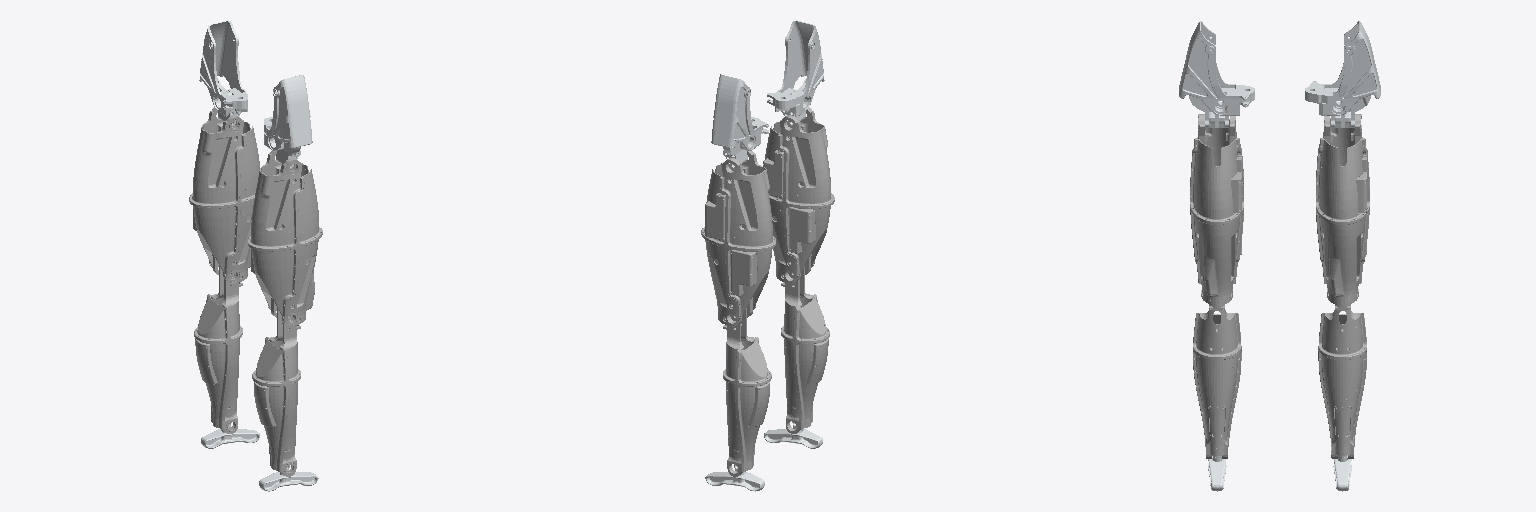
URDF robot description (Draco):
<robot name="Draco">
 <link name="torso">
    <inertial>
        <origin xyz="-0.0133907728940907 0.000753510365864796 0.10783" rpy="0 0 0" />
        <!--<origin xyz="-0.0133907728940907 0.000753510365864796 0." rpy="0 0 0" />-->
      <mass value="9.67" />
      <inertia ixx="0.0585154591166426" ixy="-9.46724624145663E-05" ixz="-0.00614431919973963" iyy="0.0651574953784801" iyz="-0.000230611945696951" izz="0.0178352105631859" />
    </inertial>
    <visual>
      <origin xyz="-0.05 0 -0.0549" rpy="1.5708 0 1.5708" />
      <geometry>
        <mesh filename="meshes/torso_draco.dae" />
      </geometry>
      <material name="">
        <color rgba="0.752941176470588 0.752941176470588 0.752941176470588 1" />
      </material>
    </visual>
  </link>
  <link name="lHipYaw">
    <inertial>
      <origin xyz="0 0.07 0.05" rpy="0 0 0" />
      <mass value="2.962" />
      <inertia ixx="0.0001" ixy="0.0001" ixz="0.0001" iyy="0.0001" iyz="0.0001" izz="0.0001" />
    </inertial>
    <visual>
      <origin xyz="0 0 0" rpy="0 0 0" />
      <geometry>
        <mesh filename="meshes/lHipYaw.dae" />
      </geometry>
      <material name="">
        <color rgba="0.898039215686275 0.917647058823529 0.929411764705882 1" />
      </material>
    </visual>
  </link>
  <joint name="lHipYaw" type="revolute">
    <!--<origin xyz="-0.0222 0.0870 -0.2951" rpy="0 0 0" />-->
    <origin xyz="-0.0222 0.0870 0.0" rpy="0 0 0" />
    <dynamics damping="0.5" />
    <parent link="torso" />
    <child link="lHipYaw" />
    <axis xyz="0 0 1" />
    <limit effort="40" lower="-1.04" upper="1.04" velocity="25.0"/>
  </joint>
  <transmission name="lHipYaw" type="transmission_interface/SimpleTransmission">
    <actuator name="lHipYaw"/>
    <joint name="lHipYaw"/>
    <mechanicalReduction>1</mechanicalReduction>
  </transmission>

  <link name="lHipRoll">
    <inertial>
      <origin xyz="0 0.022 -0.02" rpy="0 0 0" />
      <mass value="0.408" />
      <inertia ixx="0.0001" ixy="0.0001" ixz="0.0001" iyy="0.0001" iyz="0.0001" izz="0.001" />
    </inertial>
    <visual>
      <origin xyz="0 0 0" rpy="0 0 0" />
      <geometry>
        <mesh filename="meshes/lHipRoll.dae" />
      </geometry>
      <material name="">
        <color rgba="0.898039215686275 0.917647058823529 0.929411764705882 1" />
      </material>
    </visual>
  </link>
  <joint name="lHipRoll" type="revolute">
    <origin xyz="0 0.07 -0.02" rpy="0 0 0" />
    <dynamics damping="0.5" />
    <parent link="lHipYaw" />
    <child link="lHipRoll" />
    <axis xyz="1 0 0" />
    <limit effort="40" lower="-0.52" upper="1.04" velocity="25.0"/>
  </joint>
  <transmission name="lHipRoll" type="transmission_interface/SimpleTransmission">
    <actuator name="lHipRoll"/>
    <joint name="lHipRoll"/>
    <mechanicalReduction>1</mechanicalReduction>
  </transmission>

  <link name="lHipPitch">
    <inertial>
      <origin xyz="0.0009 0.0066 -0.24" rpy="0 0 0" />
      <mass value="6.0" />
      <inertia ixx="0.0555" ixy="0.0001" ixz="0.0039" iyy="0.0595" iyz="0.0001" izz="0.0059" />
    </inertial>
    <visual>
      <origin xyz="0 0 0" rpy="0 0 0" />
      <geometry>
        <mesh filename="meshes/lHipPitch.dae" />
      </geometry>
      <material name="">
        <color rgba="0.752941176470588 0.752941176470588 0.752941176470588 1" />
      </material>
    </visual>
  </link>
  <joint name="lHipPitch" type="revolute">
    <origin xyz="0 0.010 -0.065" rpy="0 0 0" />
    <dynamics damping="0.5" />
    <parent link="lHipRoll" />
    <child link="lHipPitch" />
    <axis xyz="0 1 0" />
    <limit effort="40" lower="-1.04" upper="1.04" velocity="25.0"/>
  </joint>
  <transmission name="lHipPitch" type="transmission_interface/SimpleTransmission">
    <actuator name="lHipPitch"/>
    <joint name="lHipPitch"/>
    <mechanicalReduction>1</mechanicalReduction>
  </transmission>

  <link name="lKnee">
    <inertial>
      <origin xyz="0.0161 0.0167 -0.275" rpy="0 0 0" />
      <mass value="3.5" />
      <inertia ixx="0.0224" ixy="0.0001" ixz="-0.0005" iyy="0.0240" iyz="0.0001" izz="0.0016" />
    </inertial>
    <visual>
      <origin xyz="0 0 0" rpy="0 0 0" />
      <geometry>
        <mesh filename="meshes/lKnee.dae" />
      </geometry>
      <material name="">
        <color rgba="0.752941176470588 0.752941176470588 0.752941176470588 1" />
      </material>
    </visual>
  </link>
  <joint name="lKnee" type="revolute">
    <origin xyz="0 -0.0168 -0.48" rpy="0 0 0" />
    <dynamics damping="0.5" />
    <parent link="lHipPitch" />
    <child link="lKnee" />
    <axis xyz="0 1 0" />
    <limit effort="40" lower="0.0" upper="2.13" velocity="25.0"/>
  </joint>
  <transmission name="lKnee" type="transmission_interface/SimpleTransmission">
    <actuator name="lKnee"/>
    <joint name="lKnee"/>
    <mechanicalReduction>1</mechanicalReduction>
  </transmission>

  <link name="lAnkle">
    <inertial>
      <origin xyz="0.0108 0 -0.0443" rpy="0 0 0" />
      <mass value="0.7" />
      <inertia ixx="0.0001" ixy="0.0001" ixz="0.0001" iyy="0.0001" iyz="0.0001" izz="0.0001" />
    </inertial>
    <visual>
      <origin xyz="0 0 0" rpy="0 0 0" />
      <geometry>
        <mesh filename="meshes/lAnkle.dae" />
      </geometry>
      <material name="">
        <color rgba="0.898039215686275 0.917647058823529 0.929411764705882 1" />
      </material>
    </visual>
    <collision>
      <origin xyz="0.015 0 -0.05" rpy="0 0 0" />
      <geometry>
        <box size="0.15 0.04 0.03"/>
      </geometry>
    </collision>
  </link>
  <joint name="lAnkle" type="revolute">
    <origin xyz="0.0011 0.0168 -0.48" rpy="0 -1.57 0" />
    <dynamics damping="0.5" />
    <parent link="lKnee" />
    <child link="lAnkle" />
    <axis xyz="0 1 0" />
    <limit effort="40" lower="0.901" upper="2.44" velocity="25.0"/>
  </joint>
  <transmission name="lAnkle" type="transmission_interface/SimpleTransmission">
    <actuator name="lAnkle"/>
    <joint name="lAnkle"/>
    <mechanicalReduction>1</mechanicalReduction>
  </transmission>

  <link name="rHipYaw">
    <inertial>
      <origin xyz="0 -0.07 0.05" rpy="0 0 0" />
      <mass value="2.962" />
      <inertia ixx="0.0001" ixy="0.0001" ixz="0.0001" iyy="0.0001" iyz="0.0001" izz="0.0001" />
    </inertial>
    <visual>
      <origin xyz="0 0 0" rpy="0 0 0" />
      <geometry>
        <mesh filename="meshes/rHipYaw.dae" />
      </geometry>
      <material name="">
        <color rgba="0.898039215686275 0.917647058823529 0.929411764705882 1" />
      </material>
    </visual>
  </link>
  <joint name="rHipYaw" type="revolute">
    <!--<origin xyz="-0.0222 -0.0870 -0.2951" rpy="0 0 0" />-->
    <origin xyz="-0.0222 -0.0870 0.0" rpy="0 0 0" />
    <dynamics damping="0.5" />
    <parent link="torso" />
    <child link="rHipYaw" />
    <axis xyz="0 0 1" />
    <limit effort="40" lower="-1.04" upper="1.04" velocity="25.0"/>
  </joint>
  <transmission name="rHipYaw" type="transmission_interface/SimpleTransmission">
    <actuator name="rHipYaw"/>
    <joint name="rHipYaw"/>
    <mechanicalReduction>1</mechanicalReduction>
  </transmission>

  <link name="rHipRoll">
    <inertial>
      <origin xyz="0 -0.022 -0.02" rpy="0 0 0" />
      <mass value="0.408" />
      <inertia ixx="0.0001" ixy="0.0001" ixz="0.0001" iyy="0.0001" iyz="0.0001" izz="0.001" />
    </inertial>
    <visual>
      <origin xyz="0 0 0" rpy="0 0 0" />
      <geometry>
        <mesh filename="meshes/rHipRoll.dae" />
      </geometry>
      <material name="">
        <color rgba="0.898039215686275 0.917647058823529 0.929411764705882 1" />
      </material>
    </visual>
  </link>
  <joint name="rHipRoll" type="revolute">
    <origin xyz="0 -0.07 -0.02" rpy="0 0 0" />
    <dynamics damping="0.5" />
    <parent link="rHipYaw" />
    <child link="rHipRoll" />
    <axis xyz="1 0 0" />
    <limit effort="40" lower="-1.04" upper="0.52" velocity="25.0"/>
  </joint>
  <transmission name="rHipRoll" type="transmission_interface/SimpleTransmission">
    <actuator name="rHipRoll"/>
    <joint name="rHipRoll"/>
    <mechanicalReduction>1</mechanicalReduction>
  </transmission>

  <link name="rHipPitch">
    <inertial>
      <origin xyz="0.0009 0.0066 -0.24" rpy="0 0 0" />
      <mass value="6.0" />
      <inertia ixx="0.0555" ixy="0.0001" ixz="0.0039" iyy="0.0595" iyz="0.0001" izz="0.0059" />
    </inertial>
    <visual>
      <origin xyz="0 0 0" rpy="0 0 0" />
      <geometry>
        <mesh filename="meshes/rHipPitch.dae" />
      </geometry>
      <material name="">
        <color rgba="0.752941176470588 0.752941176470588 0.752941176470588 1" />
      </material>
    </visual>
  </link>
  <joint name="rHipPitch" type="revolute">
    <origin xyz="0 -0.01 -0.065" rpy="0 0 0" />
    <dynamics damping="0.5" />
    <parent link="rHipRoll" />
    <child link="rHipPitch" />
    <axis xyz="0 1 0" />
    <limit effort="40" lower="-1.04" upper="1.04" velocity="25.0"/>
  </joint>
  <transmission name="rHipPitch" type="transmission_interface/SimpleTransmission">
    <actuator name="rHipPitch"/>
    <joint name="rHipPitch"/>
    <mechanicalReduction>1</mechanicalReduction>
  </transmission>

  <link name="rKnee">
    <inertial>
      <origin xyz="-0.0161 -0.0168 -0.275" rpy="0 0 0" />
      <mass value="3.5" />
      <inertia ixx="0.0224" ixy="0.0001" ixz="-0.0005" iyy="0.0240" iyz="0.0001" izz="0.0016" />
    </inertial>
    <visual>
      <origin xyz="0 0 0" rpy="0 0 0" />
      <geometry>
        <mesh filename="meshes/rKnee.dae" />
      </geometry>
      <material name="">
        <color rgba="0.752941176470588 0.752941176470588 0.752941176470588 1" />
      </material>
    </visual>
  </link>
  <joint name="rKnee" type="revolute">
    <origin xyz="0 0.01675 -0.48" rpy="0 0 0" />
    <dynamics damping="0.5" />
    <parent link="rHipPitch" />
    <child link="rKnee" />
    <axis xyz="0 1 0" />
    <limit effort="40" lower="0.0" upper="2.13" velocity="25.0"/>
  </joint>
  <transmission name="rKnee" type="transmission_interface/SimpleTransmission">
    <actuator name="rKnee"/>
    <joint name="rKnee"/>
    <mechanicalReduction>1</mechanicalReduction>
  </transmission>

  <link name="rAnkle">
    <inertial>
      <origin xyz="0.0108 0 -0.0443" rpy="0 0 0" />
      <mass value="0.7" />
      <inertia ixx="0.0001" ixy="0.0001" ixz="0.0001" iyy="0.0001" iyz="0.0001" izz="0.0001" />
    </inertial>
    <visual>
      <origin xyz="0 0 0" rpy="0 0 0" />
      <geometry>
        <mesh filename="meshes/rAnkle.dae" />
      </geometry>
      <material name="">
        <color rgba="0.898039215686275 0.917647058823529 0.929411764705882 1" />
      </material>
    </visual>
    <collision>
      <origin xyz="0.015 0 -0.05" rpy="0 0 0" />
      <geometry>
        <box size="0.15 0.04 0.03"/>
      </geometry>
    </collision>
  </link>
  <joint name="rAnkle" type="revolute">
    <origin xyz="0.0011 -0.0168 -0.48" rpy="0 -1.57 0" />
    <dynamics damping="0.5" />
    <parent link="rKnee" />
    <child link="rAnkle" />
    <axis xyz="0 1 0" />
    <limit effort="40" lower="0.901" upper="2.44" velocity="25.0"/>
  </joint>
  <transmission name="rAnkle" type="transmission_interface/SimpleTransmission">
    <actuator name="rAnkle"/>
    <joint name="rAnkle"/>
    <mechanicalReduction>1</mechanicalReduction>
  </transmission>
  </robot>

--- Facts derived from the render (not from the file) ---
3 views of the same robot in one strip: view 1: azimuth 30°, elevation 25°; view 2: azimuth 150°, elevation 25°; view 3: azimuth 270°, elevation 25° (orthographic).
Model Draco with 11 links and 10 joints (10 revolute), rooted at torso, posed joints at zero except 2 at the middle of their limits (lAnkle = 1.67, rAnkle = 1.67).
Visible links, largest first — view 1: rHipPitch, lHipPitch, rKnee, lKnee, lHipYaw, rHipYaw, rAnkle, lAnkle; view 2: lHipPitch, rHipPitch, lKnee, rKnee, rHipYaw, lHipYaw, rAnkle, lAnkle; view 3: rHipPitch, lHipPitch, lKnee, rKnee, lHipYaw, rHipYaw, rHipRoll, lHipRoll, lAnkle, rAnkle.
Boxes of the visible links, x1,y1,x2,y2 form: rHipPitch: (248,151,322,326); lHipPitch: (189,107,259,283); rKnee: (252,308,300,476); lKnee: (194,266,242,433); lHipYaw: (199,20,247,116); rHipYaw: (264,75,312,150); rAnkle: (259,465,318,491); lAnkle: (201,422,259,448); lHipPitch: (701,151,775,326); rHipPitch: (763,107,834,283); lKnee: (723,308,771,476); rKnee: (781,266,829,433); rHipYaw: (767,20,824,116); lHipYaw: (711,74,768,150); rAnkle: (764,421,822,448); lAnkle: (705,464,764,491); rHipPitch: (1190,114,1243,305); lHipPitch: (1316,114,1369,305); lKnee: (1318,300,1366,458); rKnee: (1193,300,1241,458); lHipYaw: (1305,21,1380,115); rHipYaw: (1179,21,1254,115); rHipRoll: (1189,96,1228,127); lHipRoll: (1331,96,1370,127); lAnkle: (1333,455,1351,491); rAnkle: (1208,455,1226,491).
Size in the robot's own frame: 0.2343 by 0.5386 by 1.33 metres.
Meshes: 11 distinct files referenced, 10 mesh visuals loaded (10 Collada DAE); not drawn: 1 (reference not matched to a file when rendering).